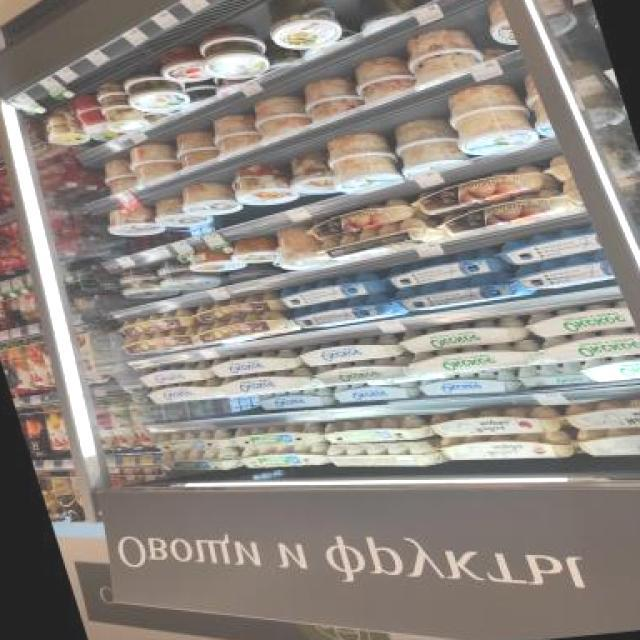Eggs: (394, 271, 538, 312), (438, 428, 574, 470), (428, 402, 564, 442), (406, 340, 548, 377), (395, 316, 533, 354), (254, 0, 354, 52), (274, 270, 402, 308), (380, 253, 512, 289), (397, 26, 486, 78), (491, 226, 606, 266), (522, 300, 636, 340), (290, 292, 408, 330), (451, 109, 539, 158), (320, 413, 434, 450), (509, 256, 618, 294), (537, 326, 640, 363), (294, 334, 406, 368), (224, 163, 304, 209), (193, 312, 299, 346), (118, 75, 200, 117), (326, 153, 409, 194), (197, 41, 280, 82), (415, 370, 520, 402), (314, 356, 422, 386), (192, 292, 290, 325), (219, 368, 323, 399), (349, 54, 419, 100), (570, 420, 640, 465), (203, 348, 304, 379), (395, 139, 473, 178), (560, 397, 640, 435), (298, 76, 364, 121), (240, 440, 332, 472), (272, 225, 334, 270), (154, 446, 243, 477), (114, 327, 203, 358), (286, 151, 347, 196), (250, 94, 312, 138), (232, 422, 326, 451), (150, 427, 238, 455), (386, 116, 462, 148), (332, 378, 422, 405), (112, 310, 198, 338), (321, 129, 396, 161), (513, 360, 592, 390), (146, 378, 227, 407), (204, 114, 264, 153), (124, 144, 183, 183), (154, 46, 212, 85), (164, 130, 223, 168), (178, 182, 240, 218), (135, 362, 218, 388), (257, 387, 338, 411), (104, 206, 164, 238), (94, 158, 143, 197), (149, 198, 209, 229), (228, 237, 286, 266), (161, 268, 222, 292), (184, 248, 240, 274), (590, 353, 640, 382), (118, 278, 174, 302)
